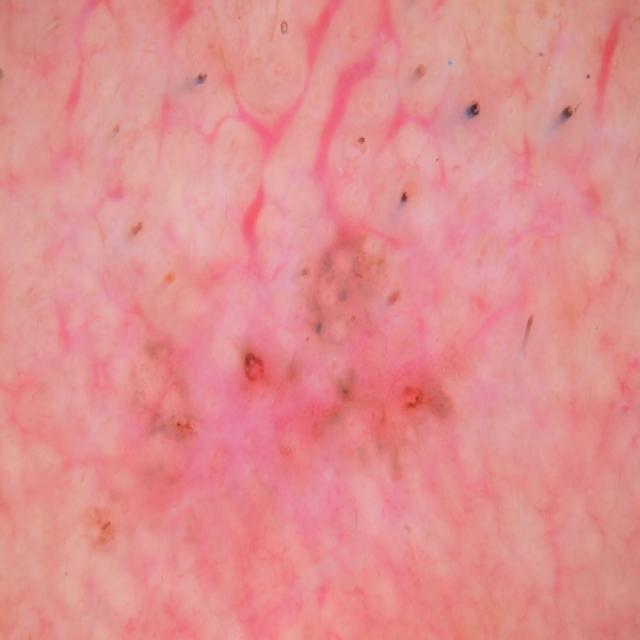Skin-Cancer Basal cell carcinoma: (0, 3, 640, 639)
